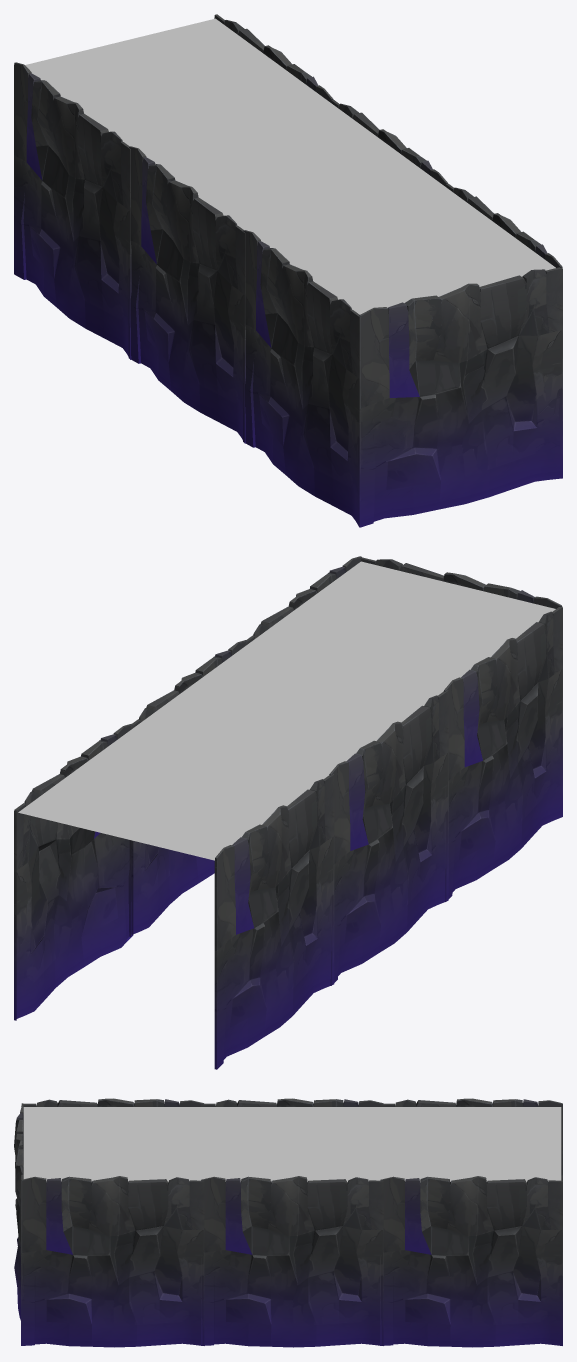
The model's file is Floor_Road.FBX.
3 views of the same model, one above another, from view 1: azimuth 30°, elevation 25°; view 2: azimuth 150°, elevation 25°; view 3: azimuth 270°, elevation 25° (orthographic). The views are drawn at different scales.
Parts seen in each view (by area): view 1: Floor_Road, floor; view 2: Floor_Road, floor; view 3: Floor_Road, floor.
Part boxes in pixels (left/top/right/bottom): Floor_Road: left=14, top=14, right=562, bottom=527; floor: left=25, top=18, right=555, bottom=314; Floor_Road: left=14, top=556, right=562, bottom=1069; floor: left=18, top=561, right=555, bottom=860; Floor_Road: left=14, top=1098, right=562, bottom=1347; floor: left=23, top=1107, right=561, bottom=1182.
Size of the model in its own units: 435 by 411 by 1206.
